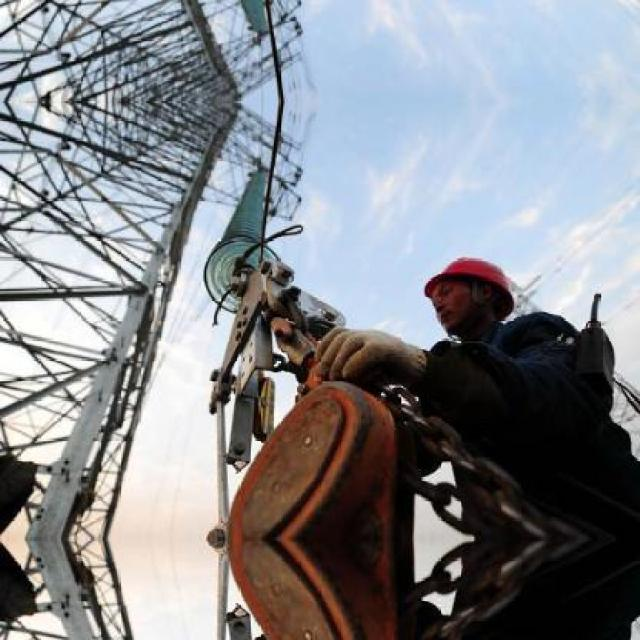helmet: (420, 246, 525, 336)
